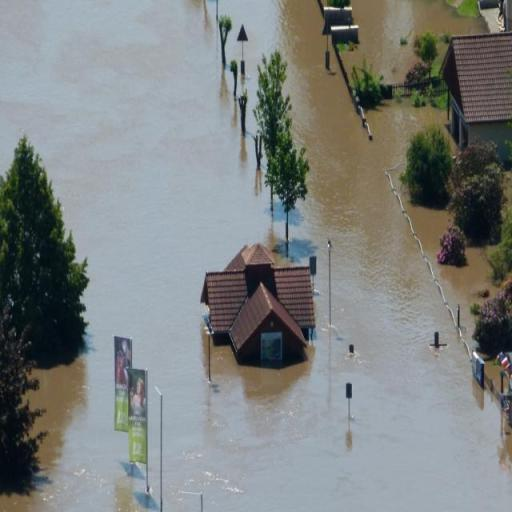flood: (0, 0, 512, 512), (402, 192, 499, 344), (342, 0, 488, 82)
house: (202, 243, 322, 369), (442, 28, 511, 148), (322, 1, 356, 45)
